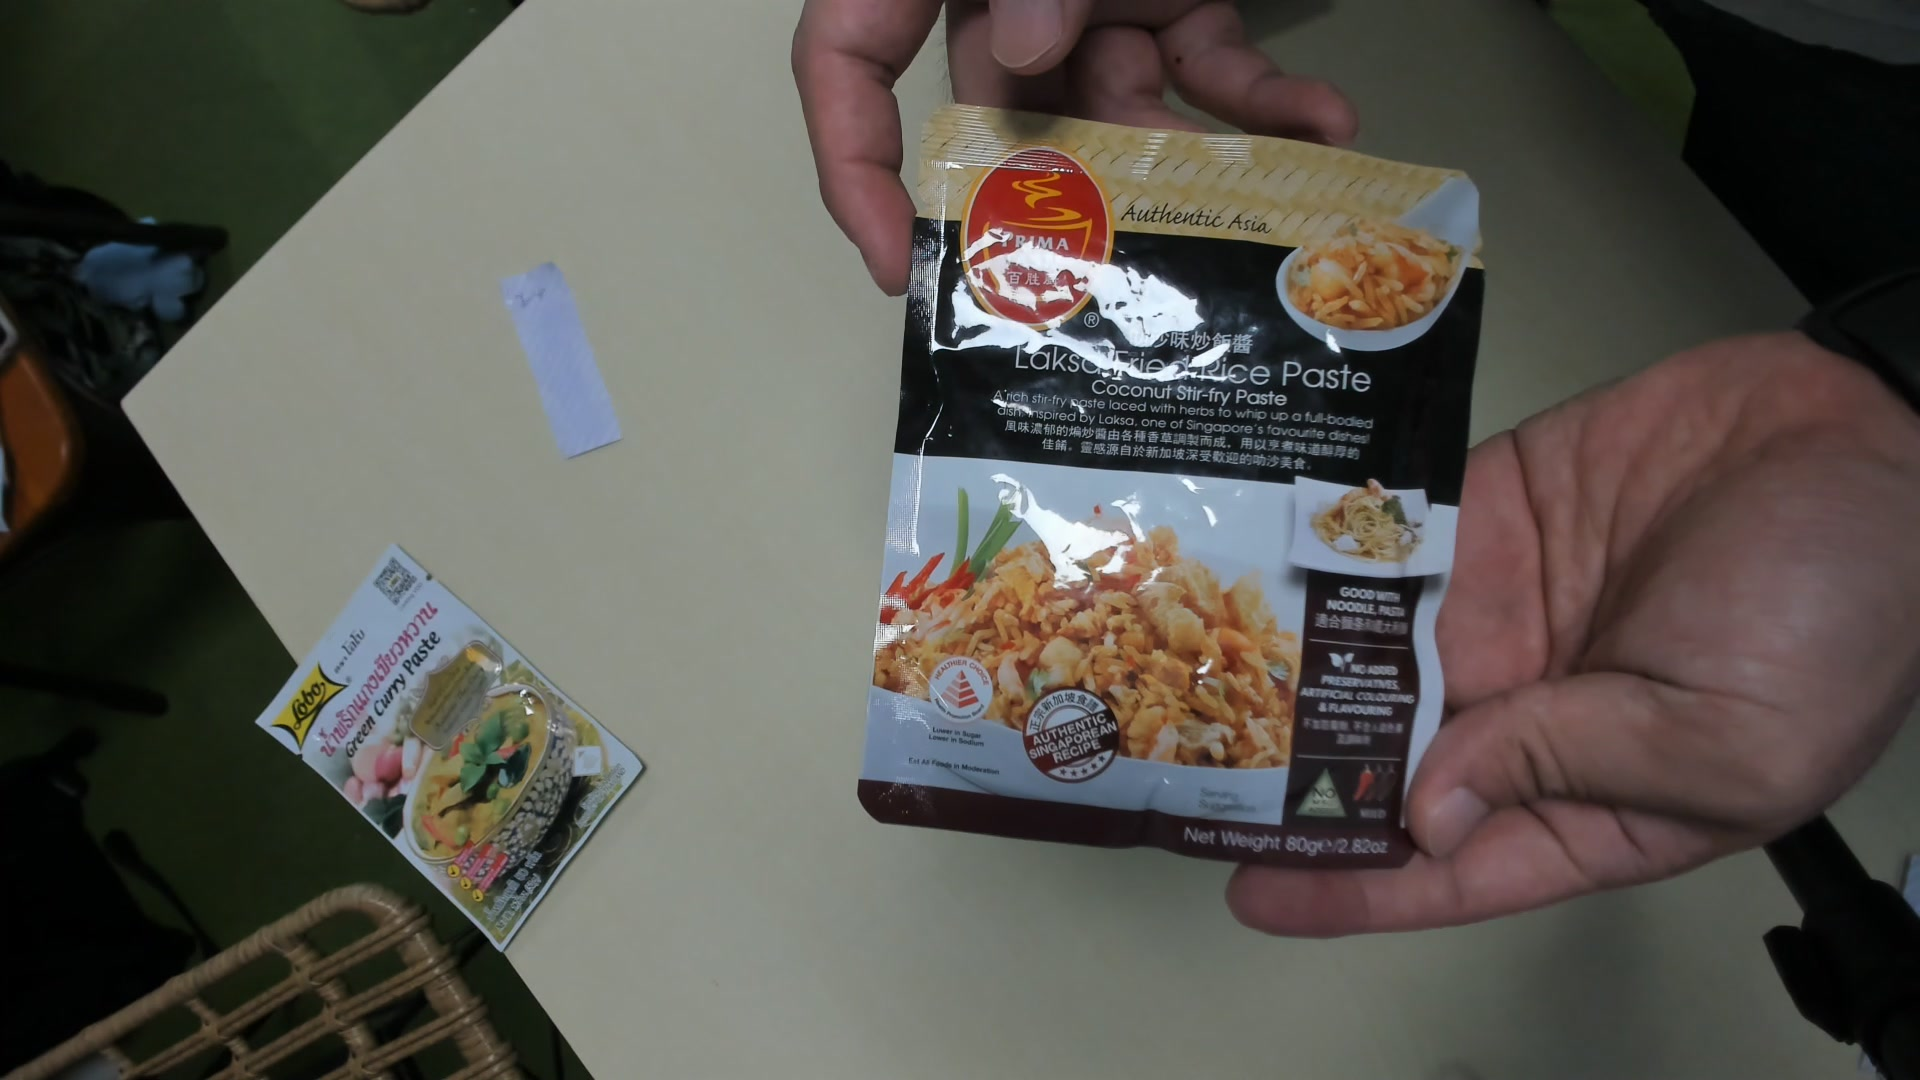OtherSauceDressing_0-99g_Halal_NonHealthy: (855, 109, 1486, 876)
